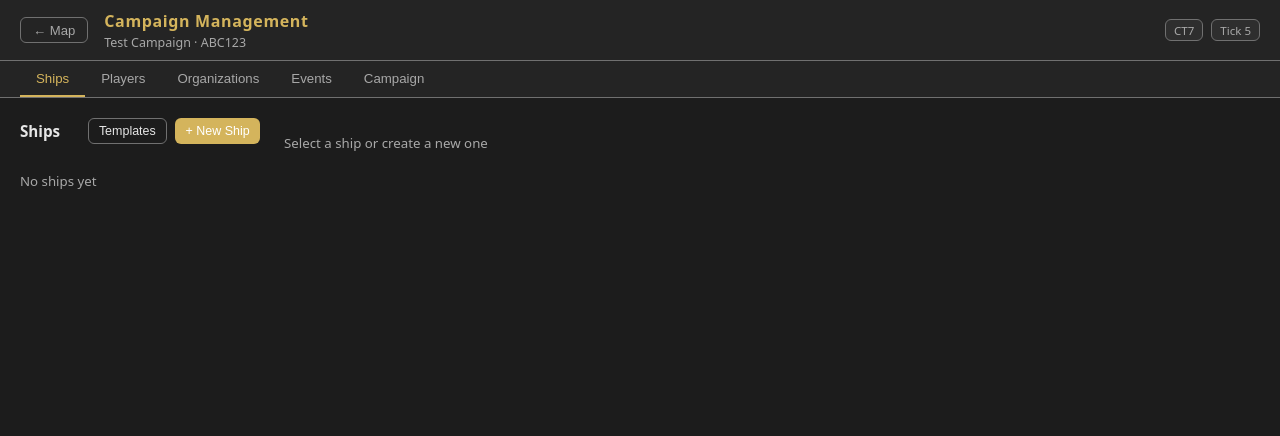
Test case: RefereeView — Events grid › removes the row entirely when deleted
The image size is (1280, 436).
Step 1. Click the tab with class "rtab" showing "Events" → point(312, 79), box 275,61 -> 348,97
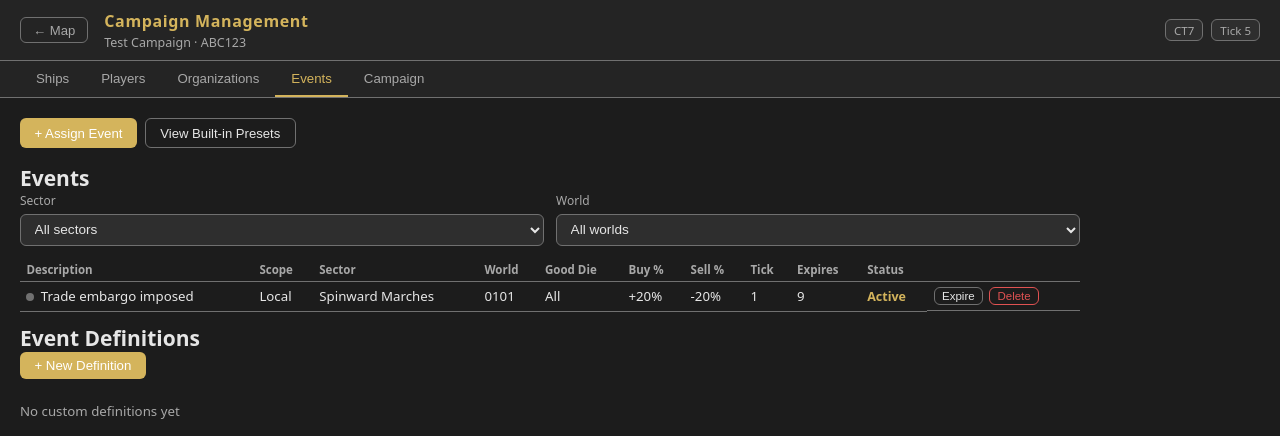
Step 2. Click the button with class "btn-danger" → point(1014, 296), box 989,286 -> 1039,305
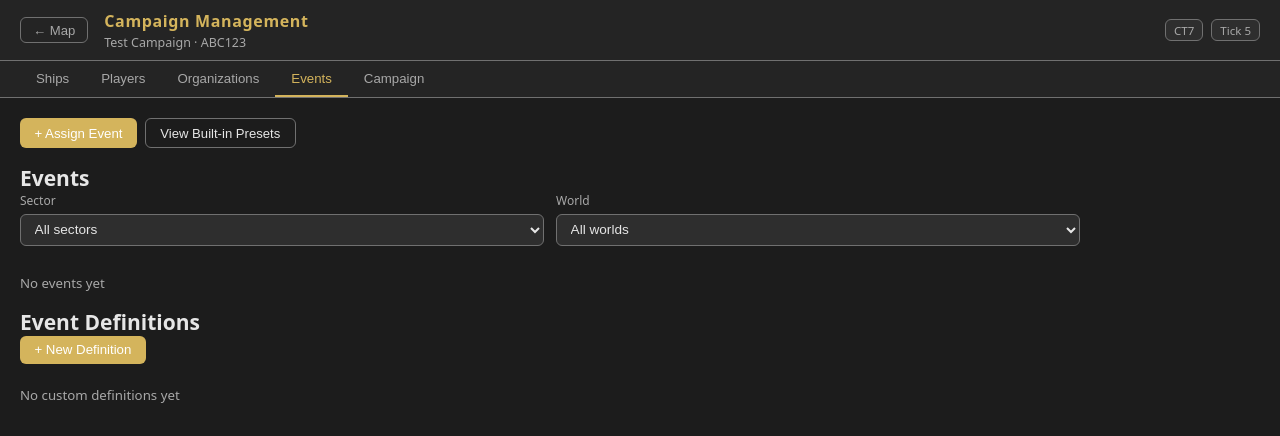
Result: no rows are shown
Result: the text "No events yet" is shown at 20,274 -> 105,292
